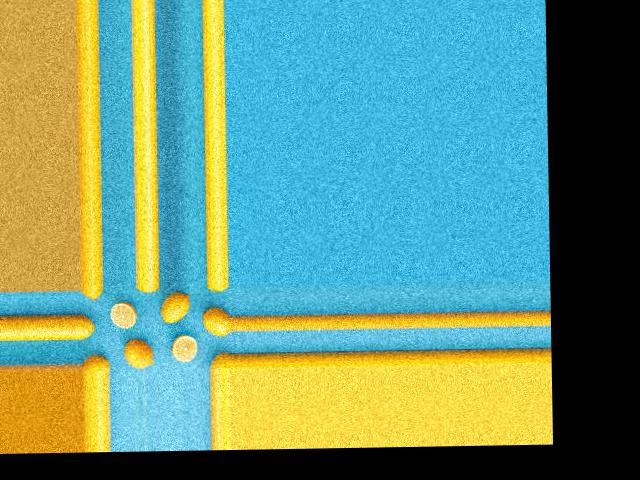lemon: (207, 349, 232, 369)
